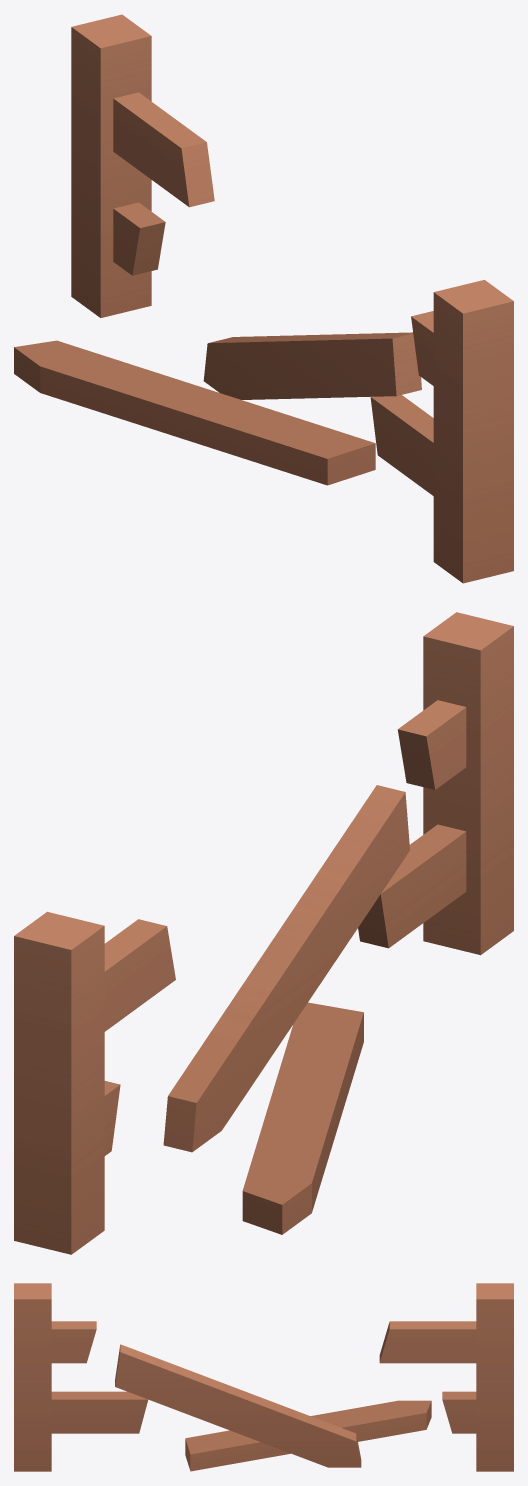
File: fence-broken.fbx
The picture shows the model from 3 angles, top to bottom: view 1: azimuth 30°, elevation 25°; view 2: azimuth 150°, elevation 25°; view 3: azimuth 270°, elevation 25°; orthographic projection. The views are drawn at different scales.
Parts seen in each view (by area): view 1: fence-broken; view 2: fence-broken; view 3: fence-broken.
Part boxes in pixels (x1,y1,x2,y2): fence-broken: (14,14,513,583); fence-broken: (14,612,513,1254); fence-broken: (14,1283,513,1471).
Bounding box in the file's own units: 25.47 × 38 × 100.
Materials: 1 (1 with a texture image).
